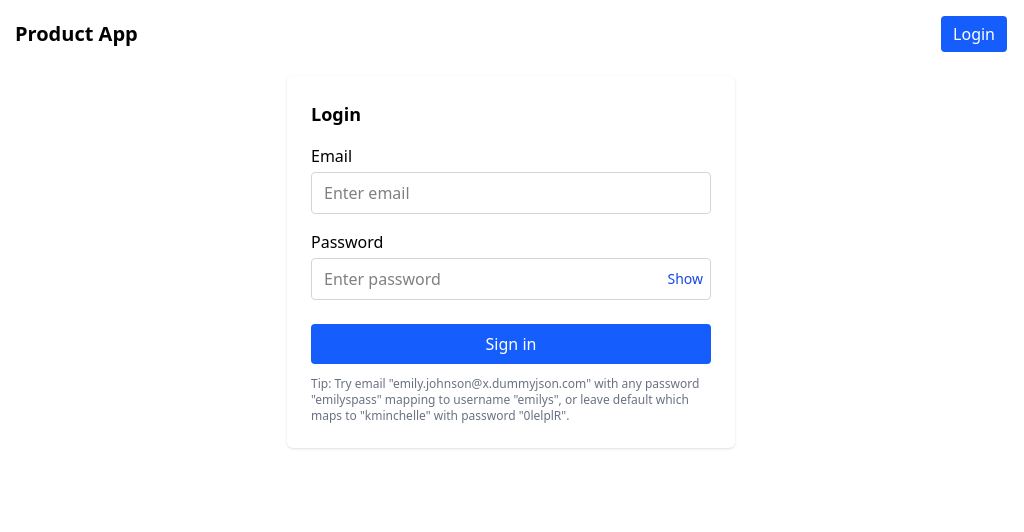
Test: Login page › validates required fields via HTML5 and custom error
Click the button "Sign in".
click(511, 344)  # box [311,324,711,364]
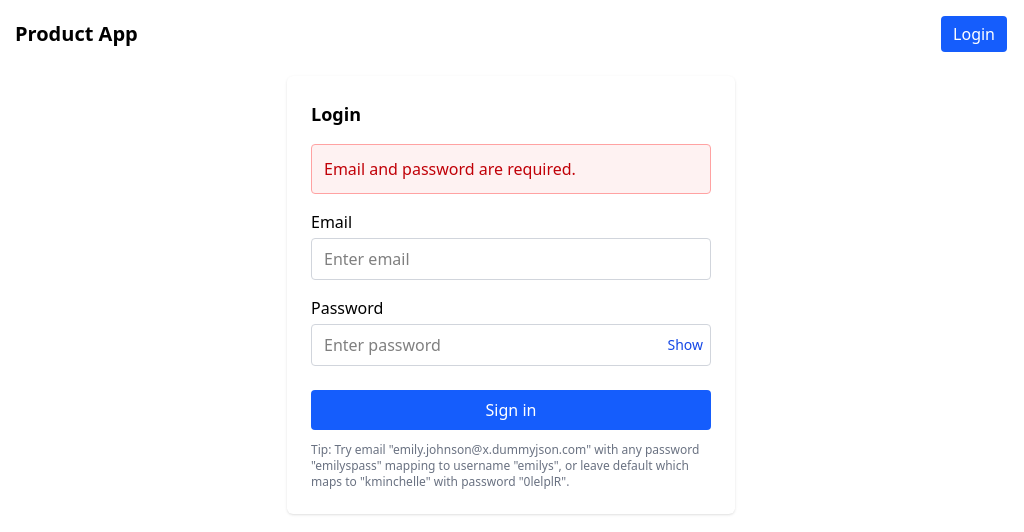
Now the text "Email and password are required." is shown, box [311,144,711,194]
